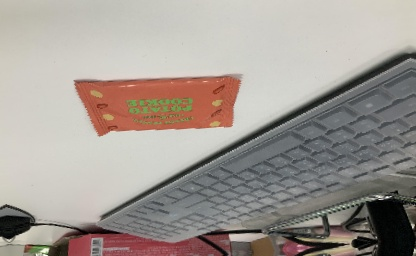pota: (72, 64, 247, 142)
